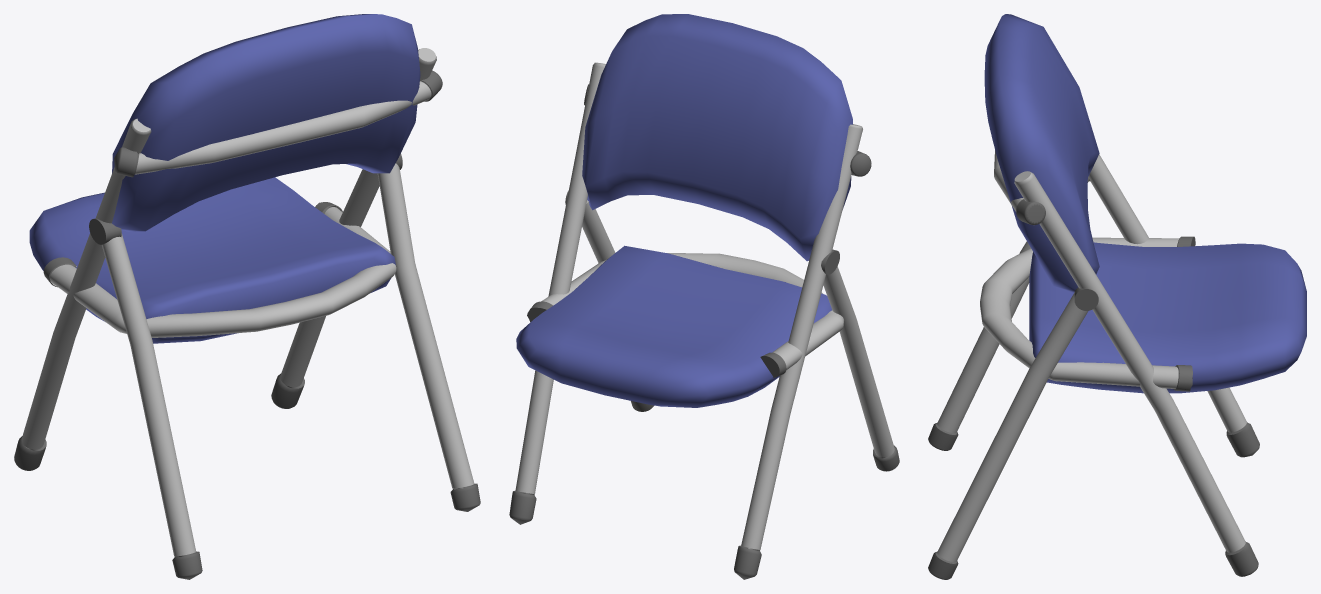
File: audiencechairfbx.fbx
3 renders of one model, left to right at view 1: azimuth 30°, elevation 25°; view 2: azimuth 150°, elevation 25°; view 3: azimuth 270°, elevation 25°, orthographic. The views are drawn at different scales.
Visible parts, largest first — view 1: pCube16; view 2: pCube16; view 3: pCube16.
Part boxes in pixels (x1,y1,x2,y2): pCube16: [14, 14, 480, 579]; pCube16: [509, 14, 899, 579]; pCube16: [928, 14, 1306, 579].
Bounding box in the file's own units: 5.28 × 7.78 × 5.61.
